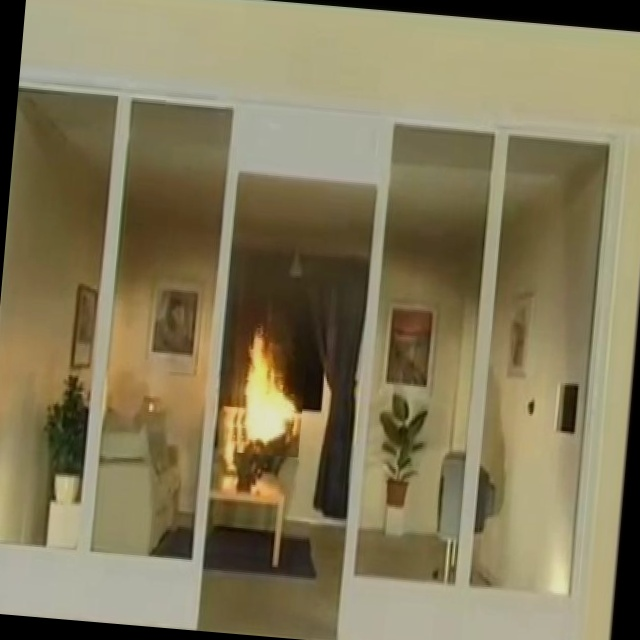fire: (226, 324, 327, 485)
